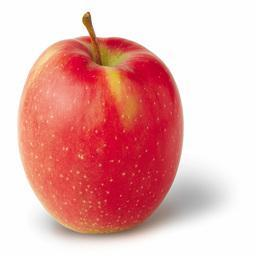apple: (15, 16, 183, 234)
